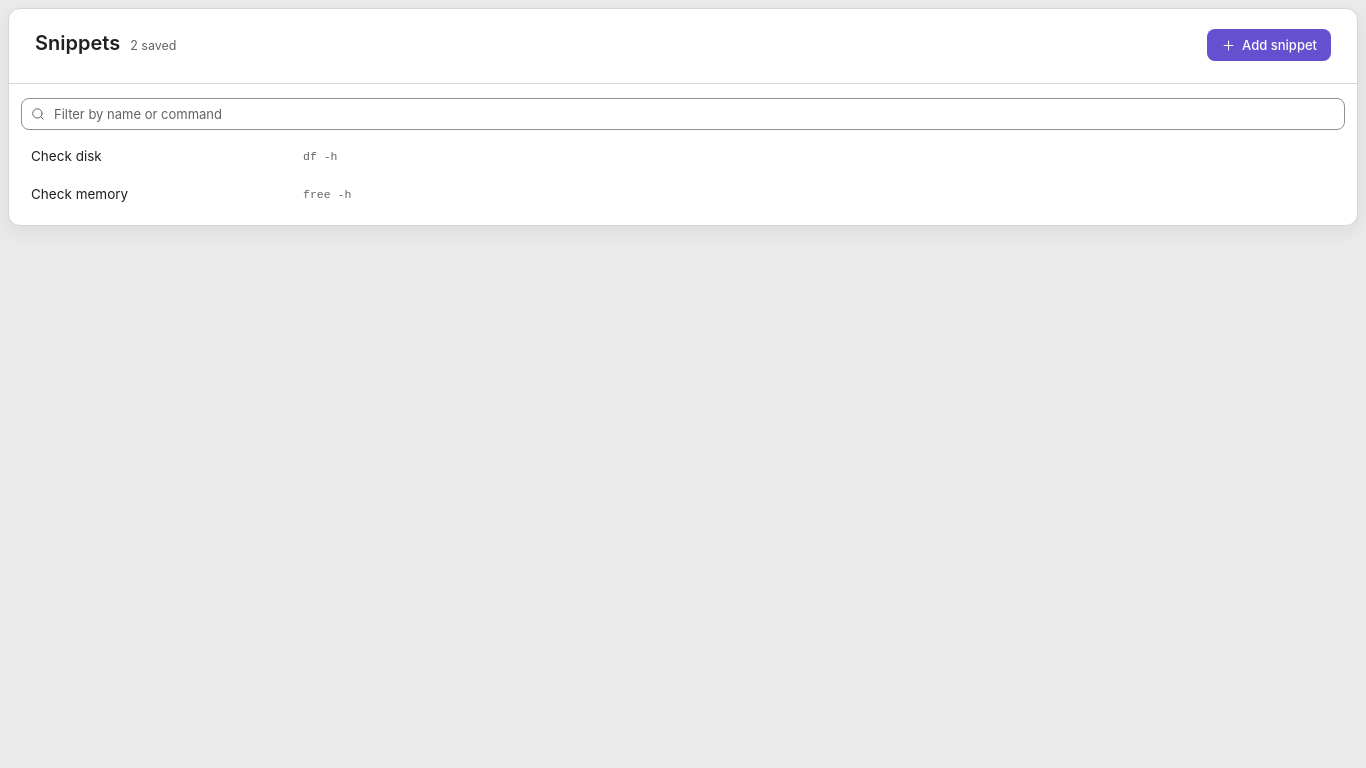
Scenario: asks before another snippet replaces an unsaved edit, and keeps the edit when editing continues
Click the button "Check disk df -h": (66, 156) [21,138,1345,174]
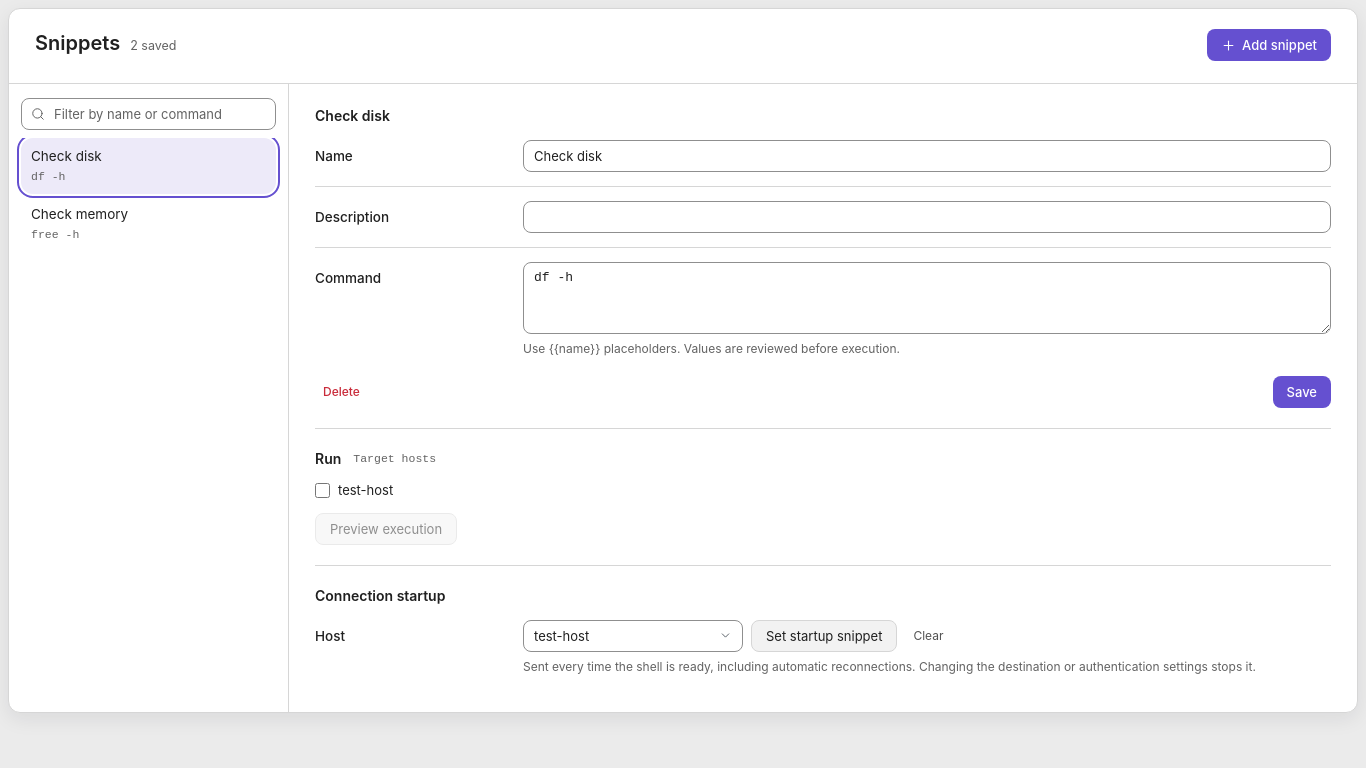
In the text box labelled "Command": (927, 298) [523,262,1331,334], type " /var"
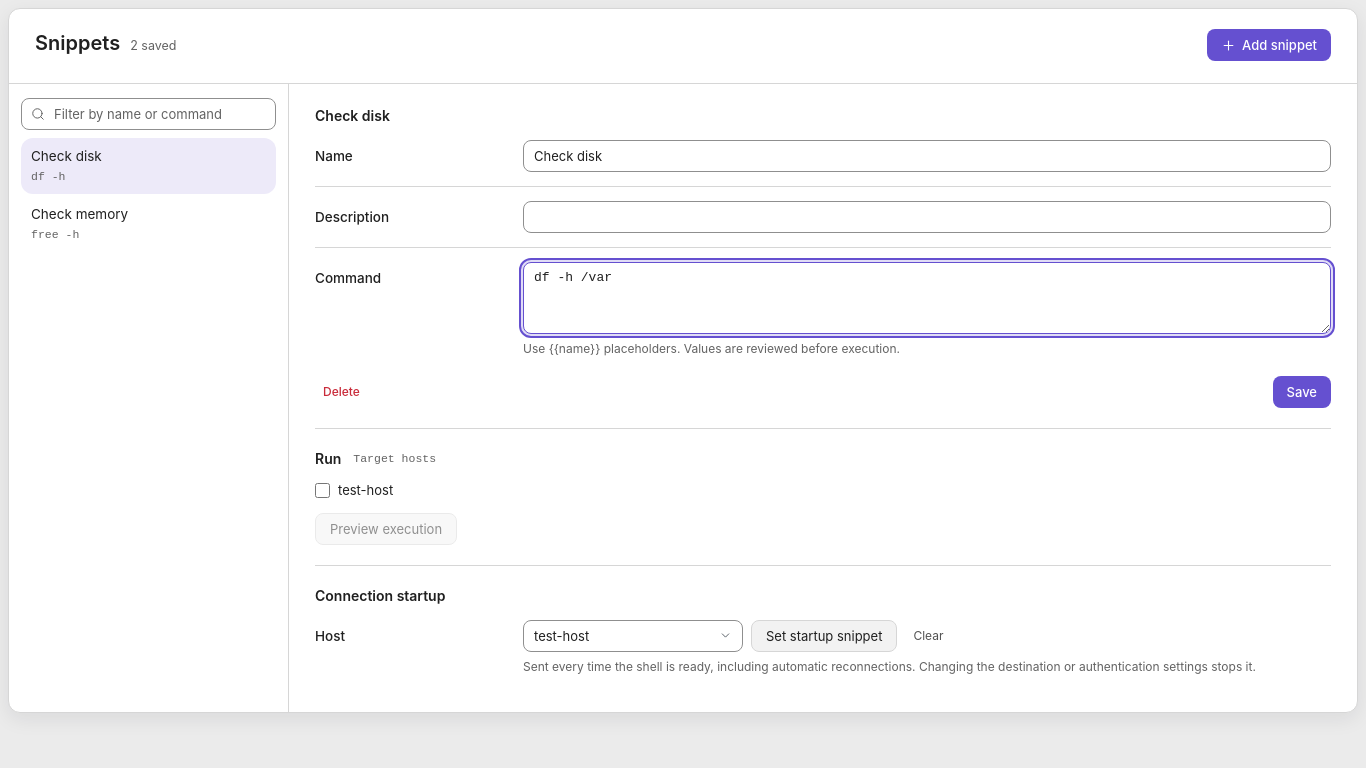
Click the button "Check memory free -h": (148, 223) [21,196,276,251]
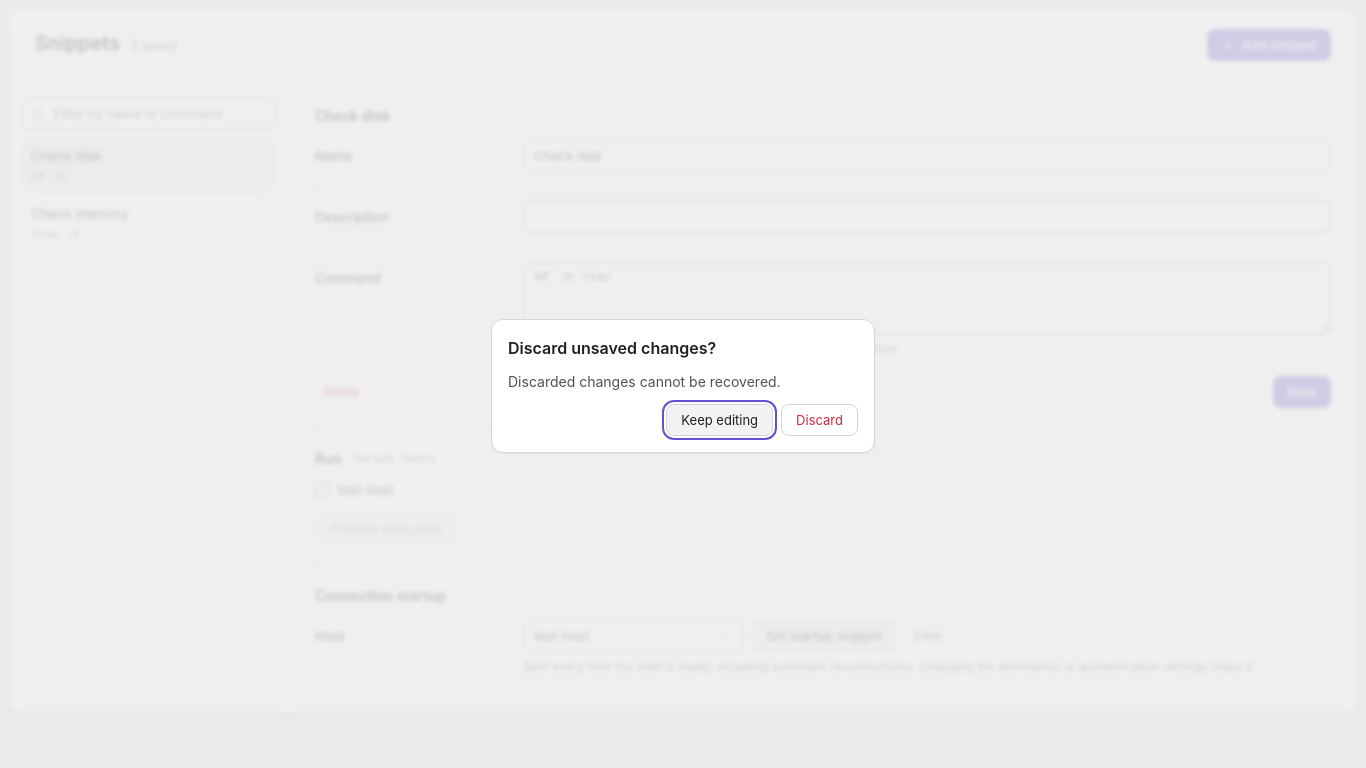
Expected: the dialog "Discard unsaved changes?" is shown, [491,319,875,453]
Click the button "Keep editing": (720, 420) [666,404,773,436]
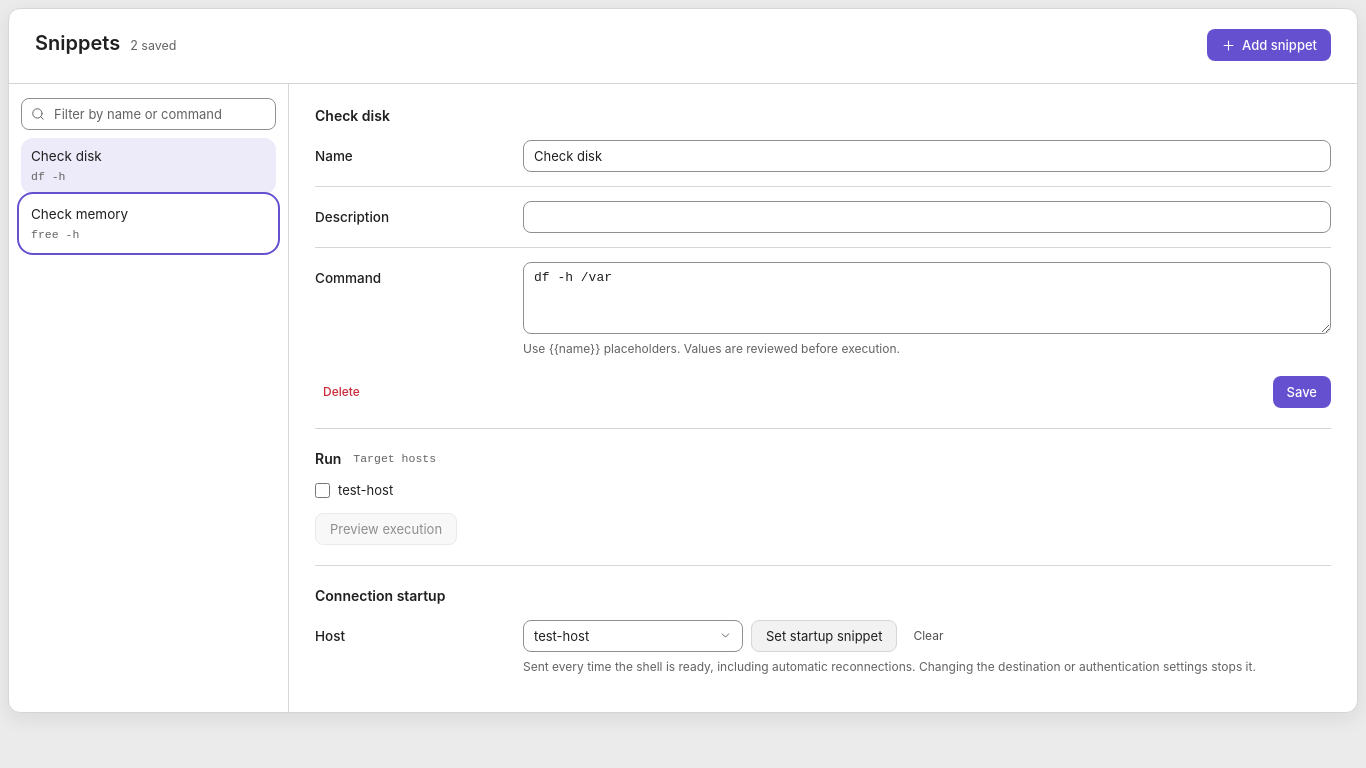
Expected: the text box labelled "Command" holds "df -h /var", [523,262,1331,334]
Click the button "Check memory free -h": (148, 223) [21,196,276,251]
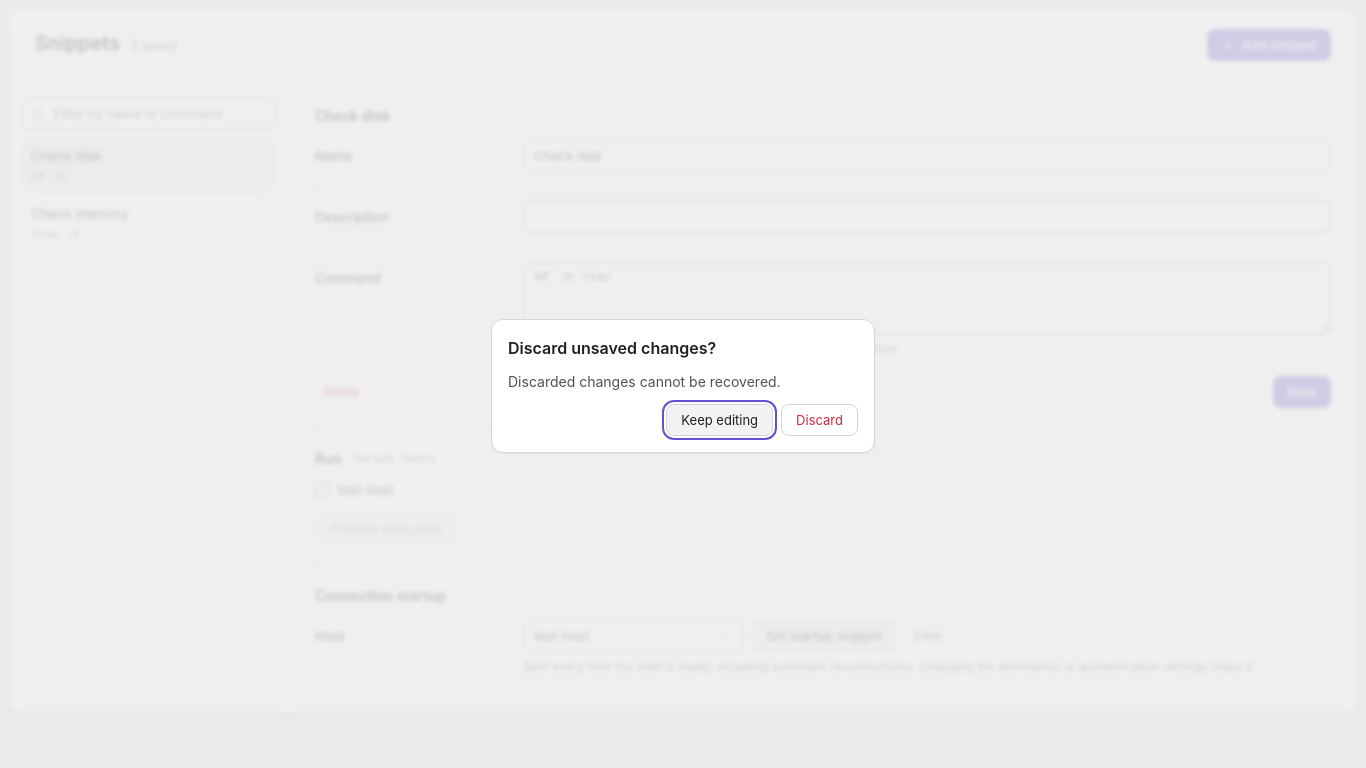
Click the button "Discard": (820, 420) [781,404,858,436]
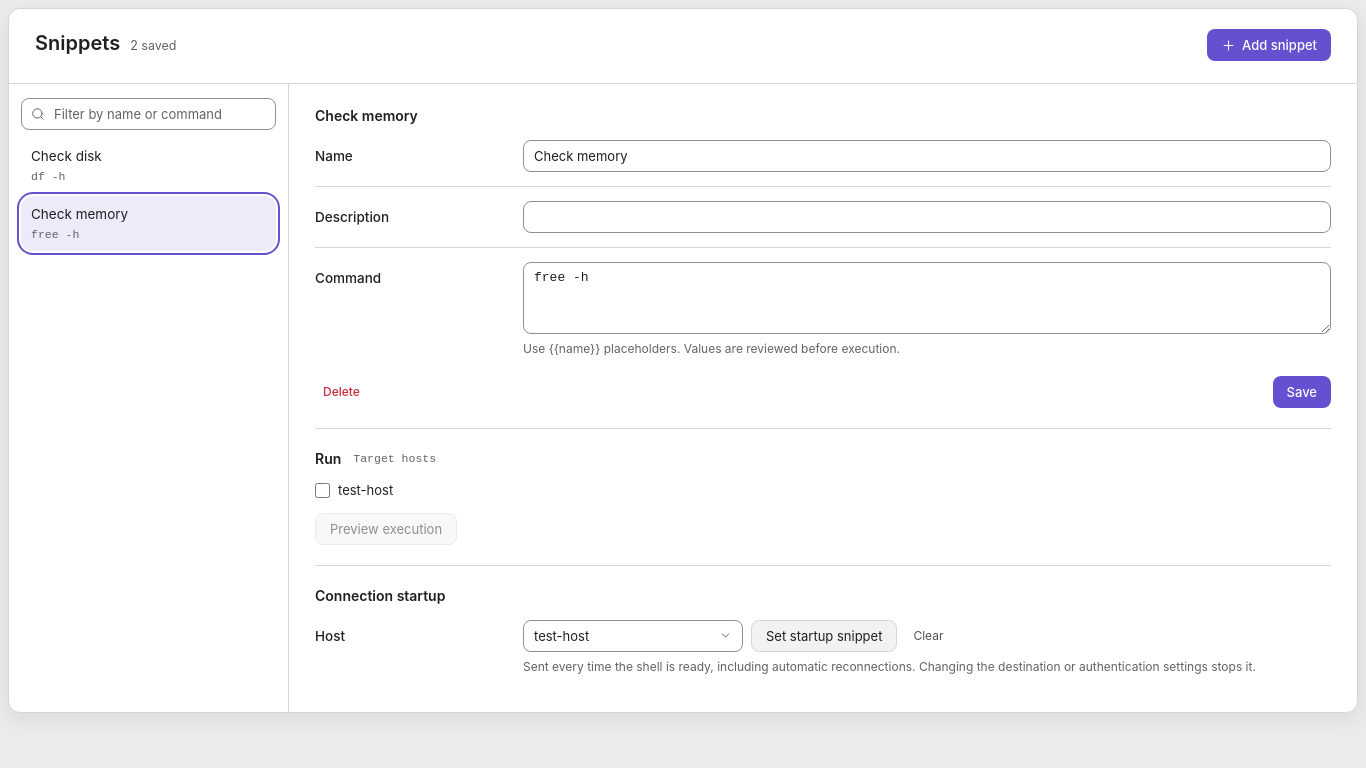
Expected: the field labelled "Name" holds "Check memory", [523,140,1331,172]
Expected: the text box labelled "Command" holds "free -h", [523,262,1331,334]
